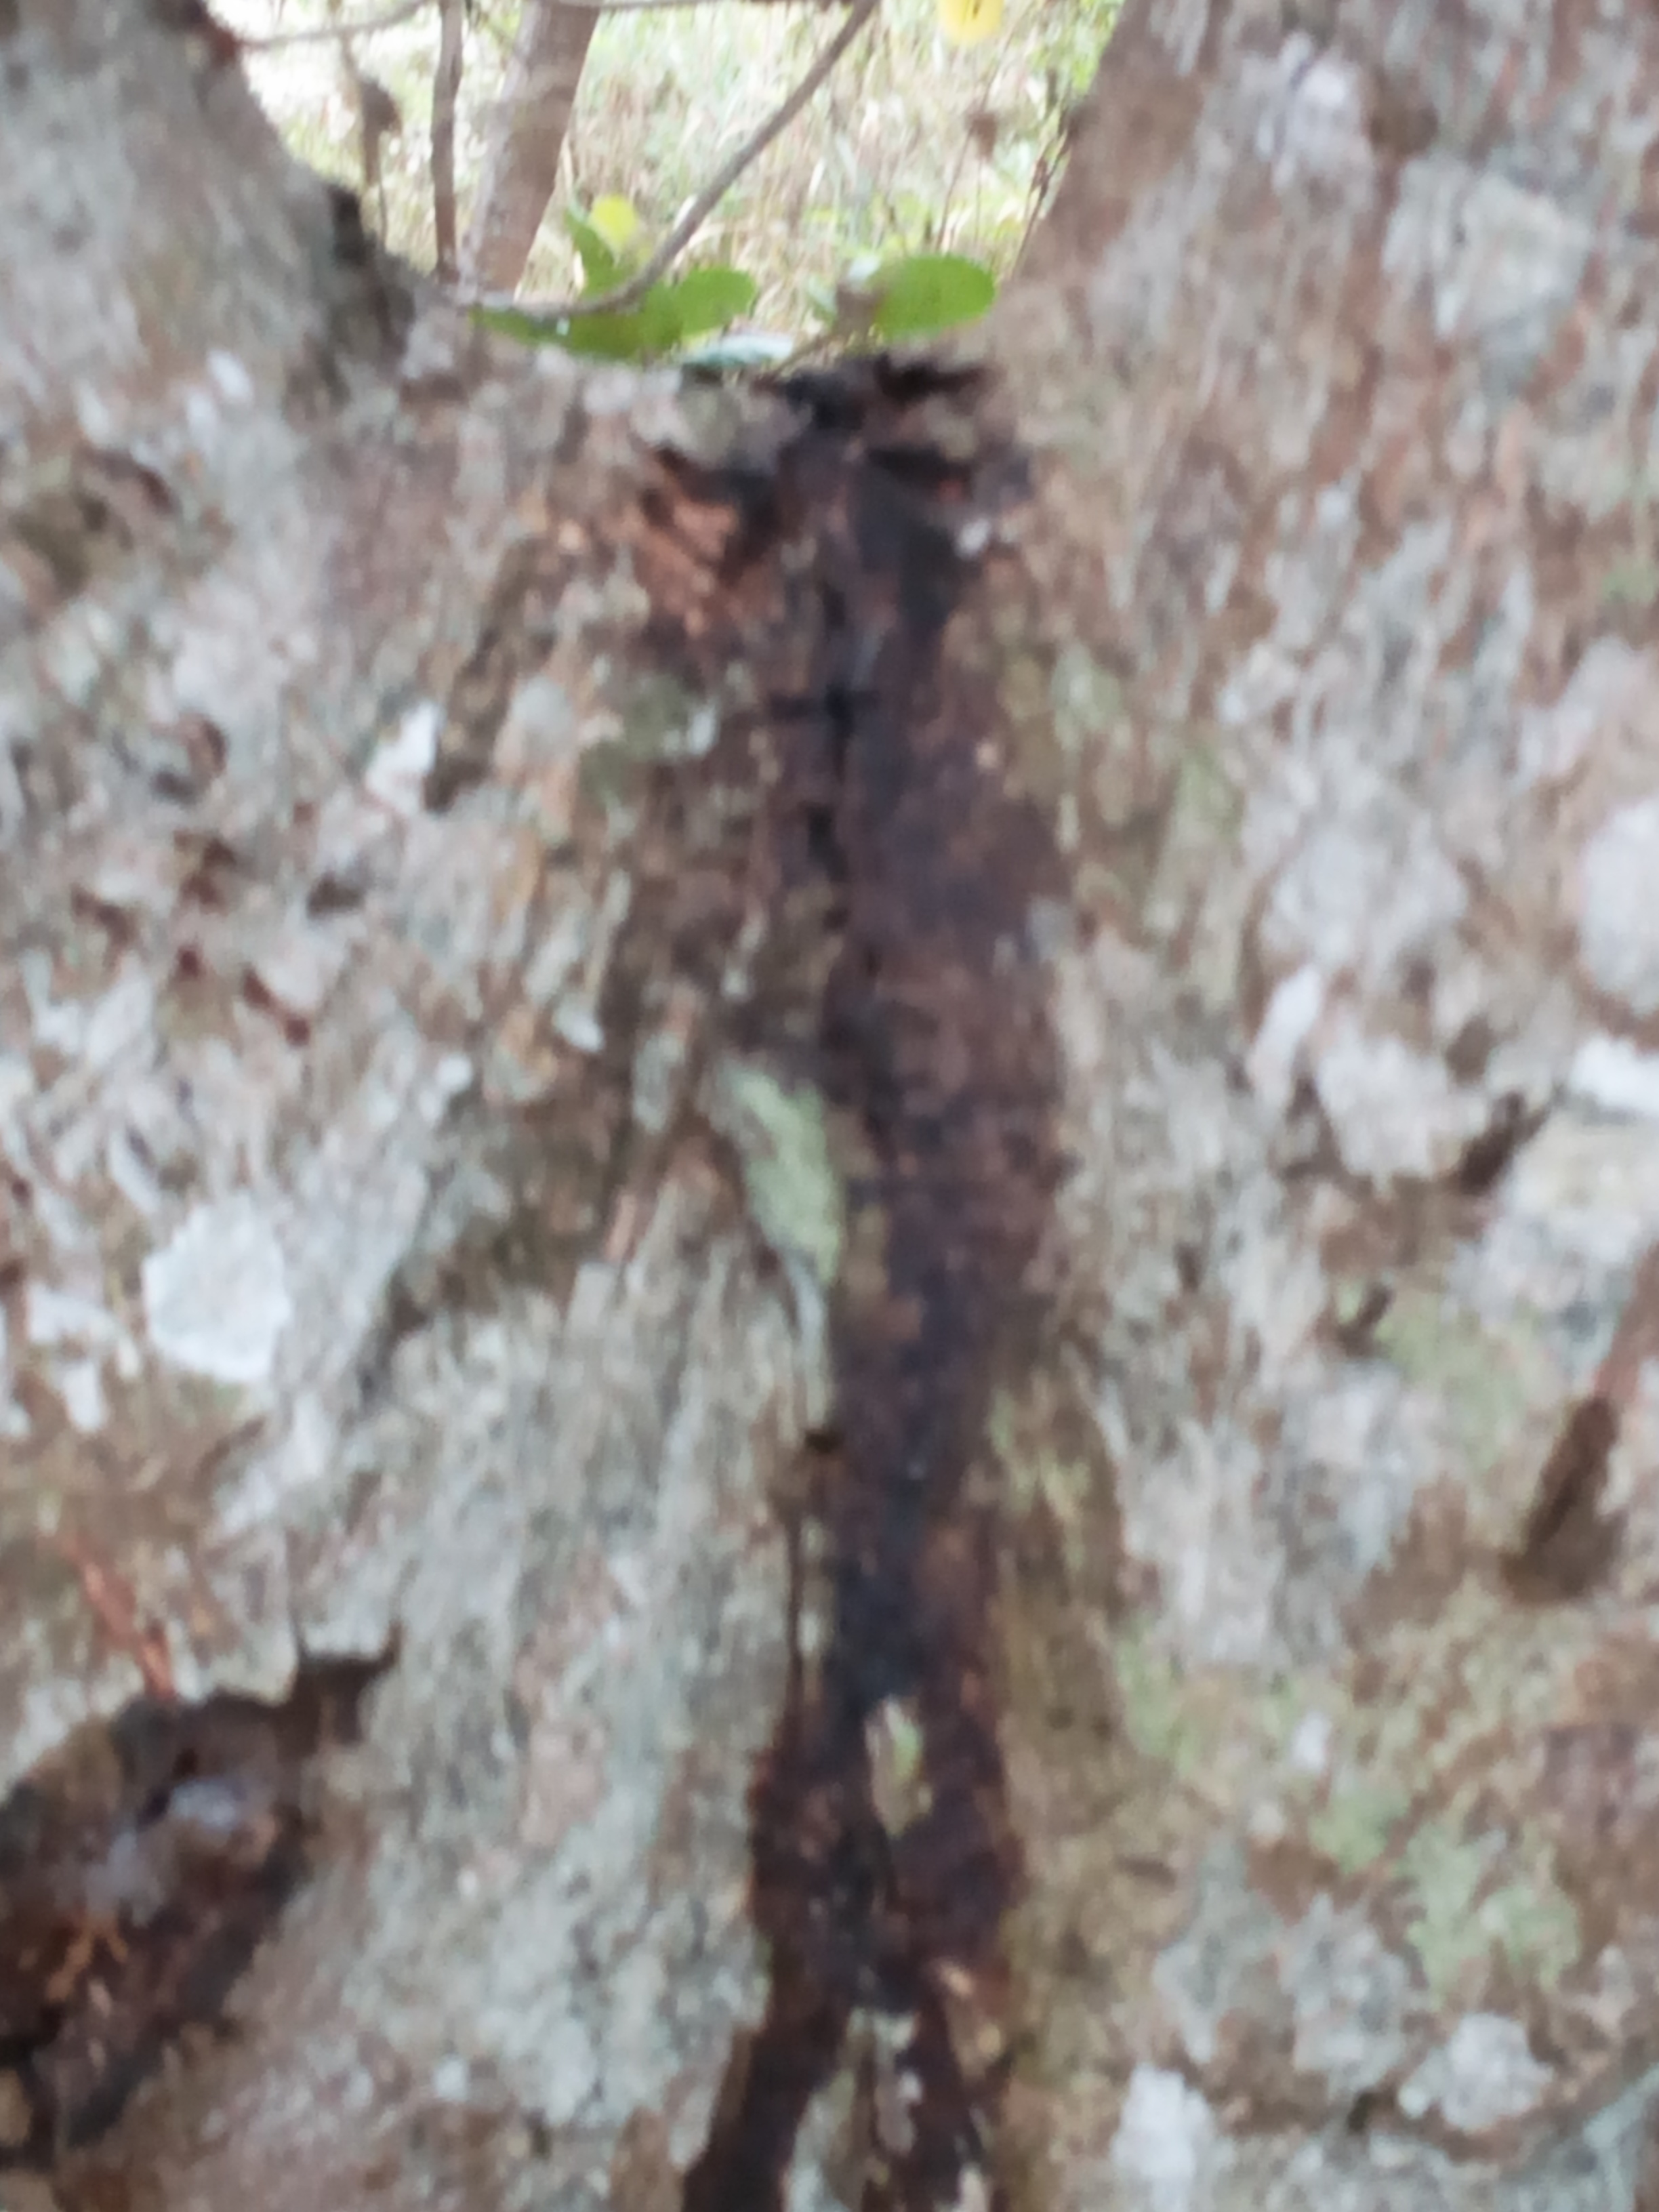Gommose: (724, 499, 1043, 2116)
